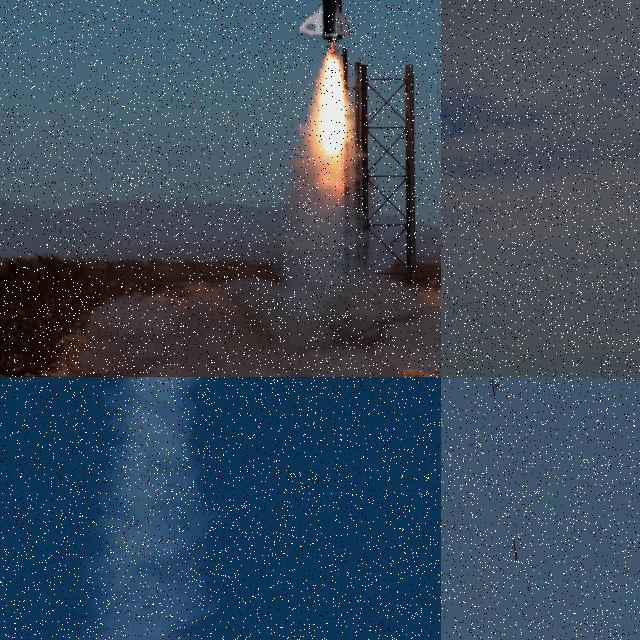Rocket: (297, 0, 353, 48), (512, 538, 519, 561)
